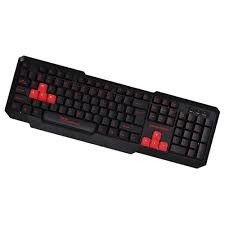keyboard: (13, 52, 220, 169)
